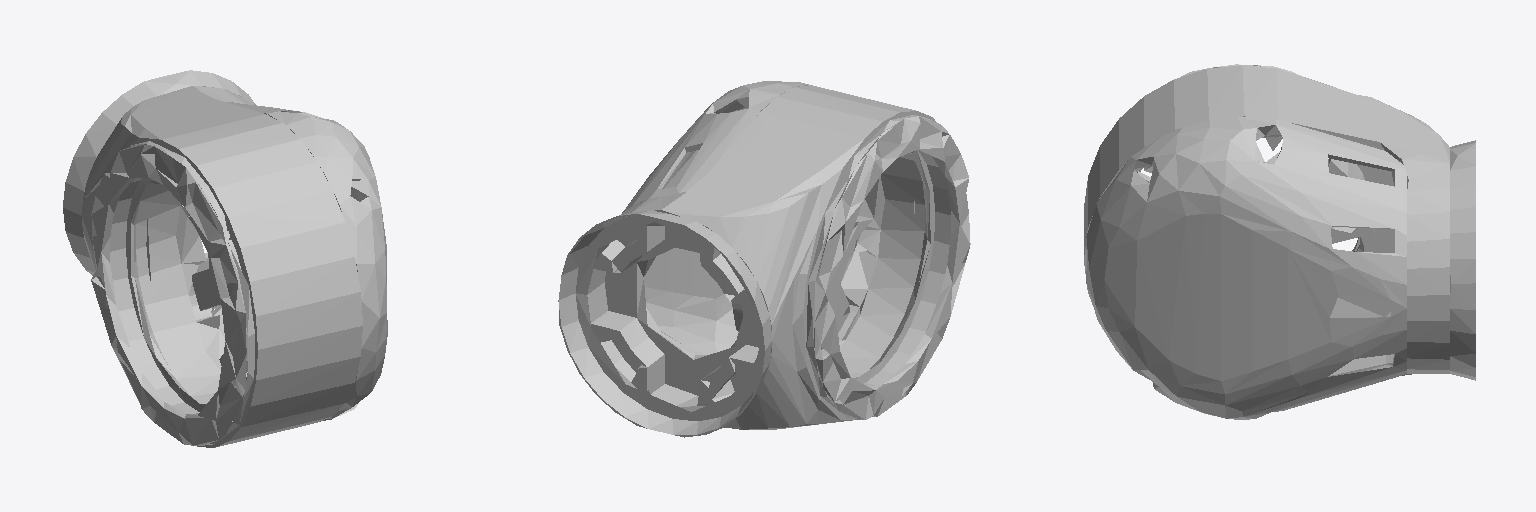
The model's file is va_right_shoulder_front.stl.obj.
3 views of the same model, side by side, from view 1: azimuth 30°, elevation 25°; view 2: azimuth 150°, elevation 25°; view 3: azimuth 270°, elevation 25° (orthographic).
Parts seen in each view (by area): view 1: <STL_BINARY>; view 2: <STL_BINARY>; view 3: <STL_BINARY>.
Boxes of the visible parts, x1=… form: <STL_BINARY>: x1=63, y1=70, x2=387, y2=447; <STL_BINARY>: x1=558, y1=81, x2=970, y2=437; <STL_BINARY>: x1=1084, y1=64, x2=1475, y2=419.
Bounding box in the file's own units: 0.0963 × 0.119 × 0.1468.